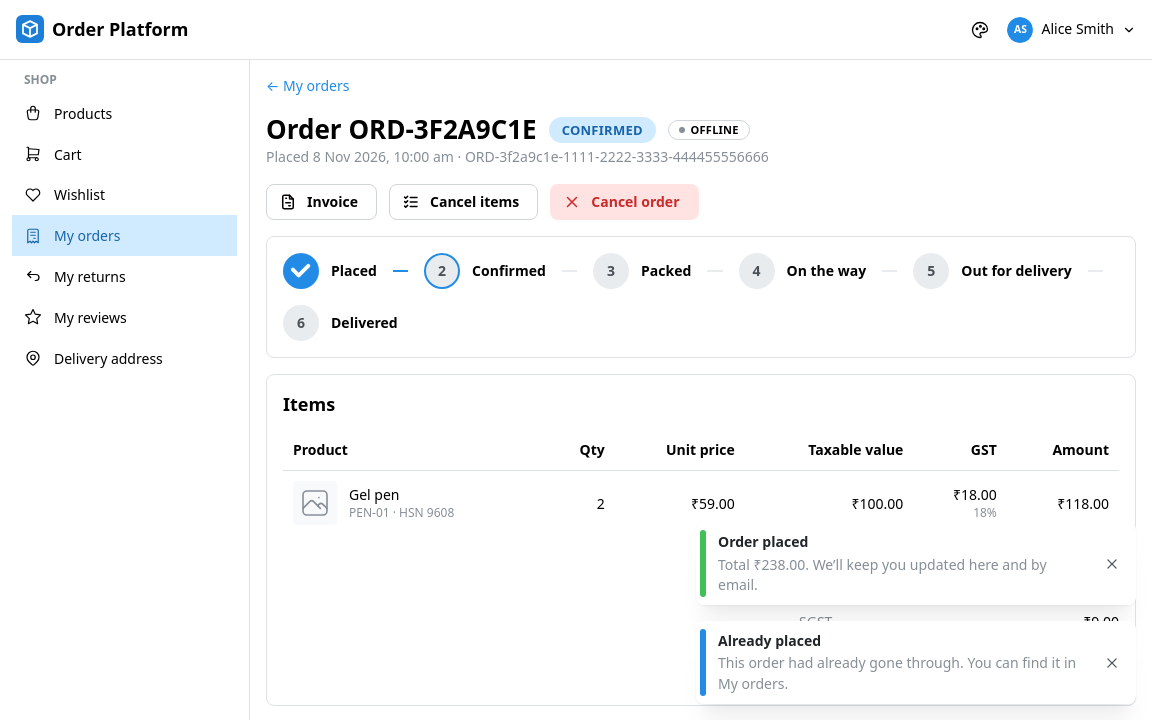
Test case: order page › shows the GST split and cancels after confirmation
Later steps or results of the test are not shown.
Expected: the text "CGST" is shown, [799,588,833,608]
Expected: the button "Invoice" is shown, [266,184,377,220]
Click the button "Cancel order" at (624, 202), box [550,184,698,220]
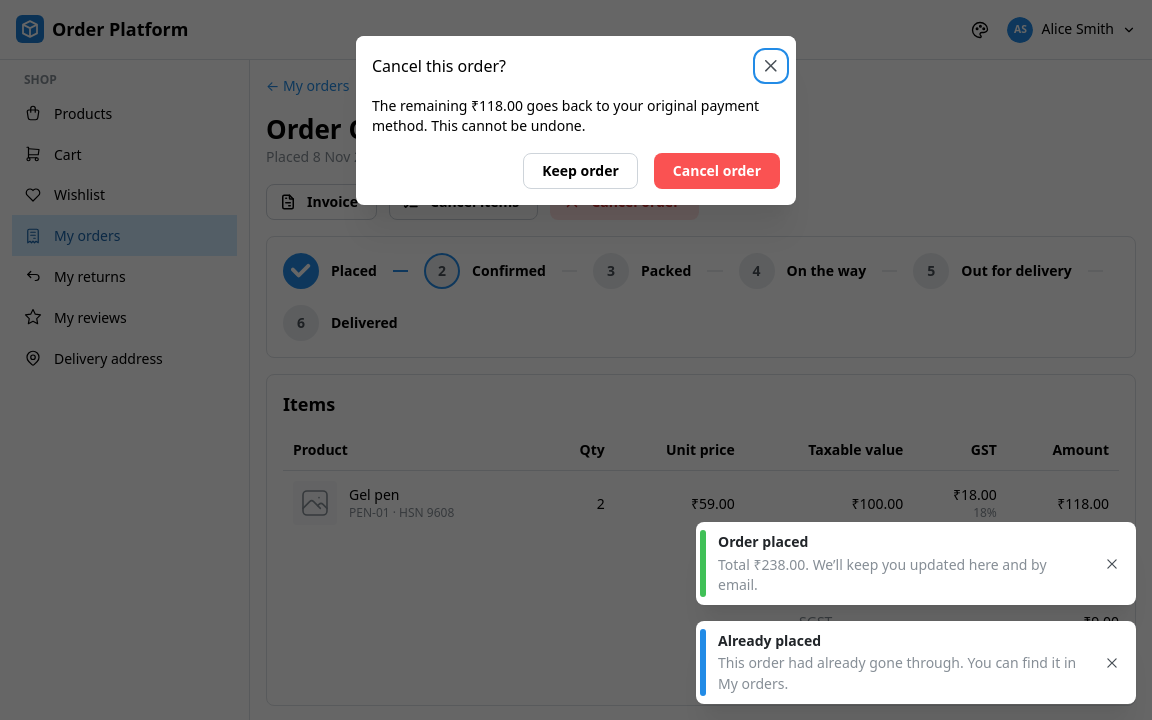
Now the text "₹118.00 goes back" is shown, box [372,96,759,135]
